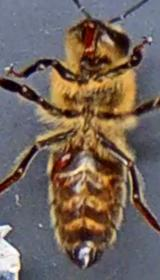varroa_mite: (54, 148, 76, 172)
